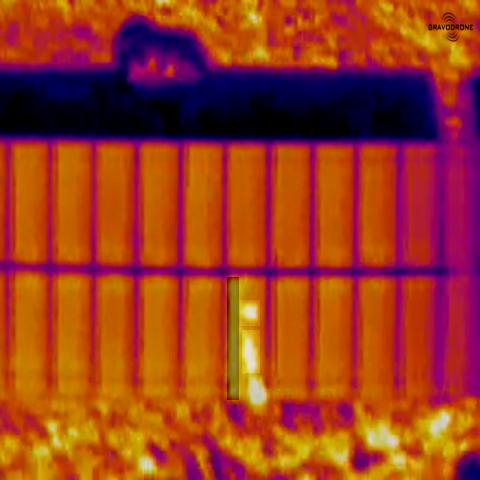fault: (227, 277, 239, 400), (242, 330, 260, 374), (245, 373, 268, 404), (240, 300, 260, 326)
